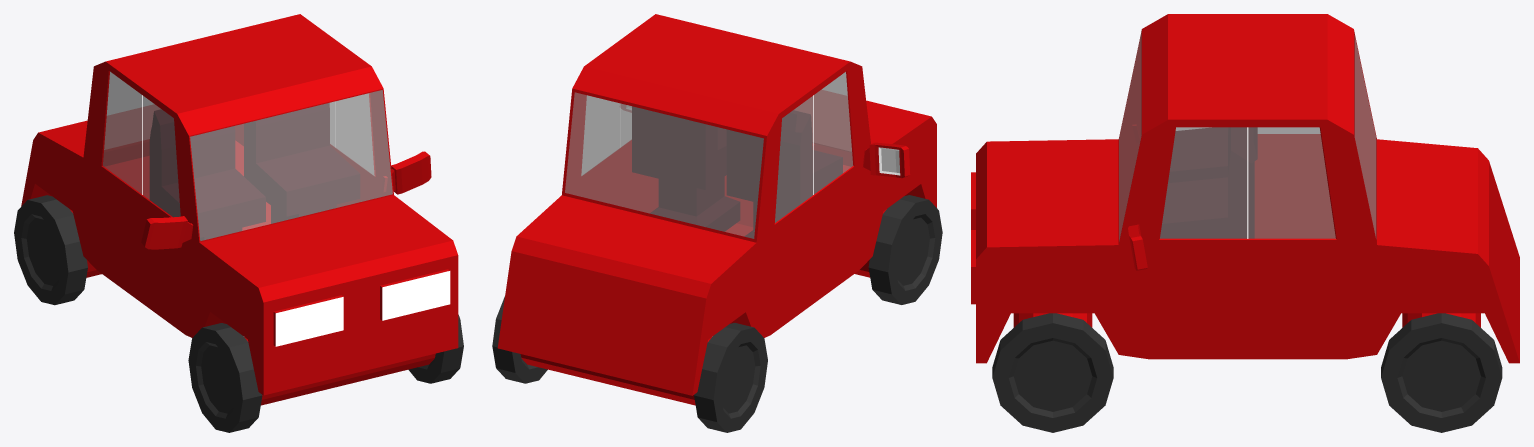
Rendered from cars4.glb.
3 renders of one model, left to right at view 1: azimuth 30°, elevation 25°; view 2: azimuth 150°, elevation 25°; view 3: azimuth 270°, elevation 25°, orthographic. The views are drawn at different scales.
Parts seen in each view (by area): view 1: Car4, Car4Tire1, Car4Tire2; view 2: Car4, Car4Tire2, Car4Tire1; view 3: Car4, Car4Tire1, Car4Tire2.
Part boxes in pixels (<box>): Car4: <box>21,14,458,395</box>; Car4Tire1: <box>188,314,463,432</box>; Car4Tire2: <box>14,195,101,305</box>; Car4: <box>497,14,936,395</box>; Car4Tire2: <box>492,296,767,432</box>; Car4Tire1: <box>855,195,942,304</box>; Car4: <box>971,14,1519,363</box>; Car4Tire1: <box>992,313,1113,432</box>; Car4Tire2: <box>1381,313,1502,432</box>.
Size of the model in its own units: 1.64 by 1.5 by 2.44.
